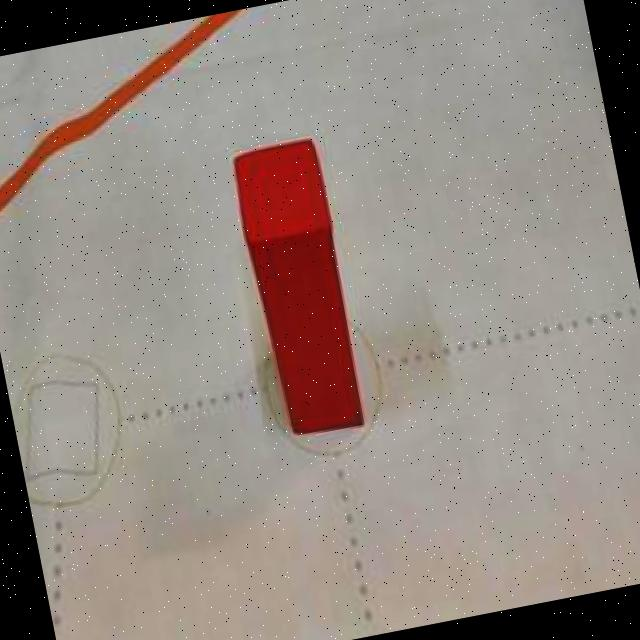redbox: (228, 134, 374, 444)
